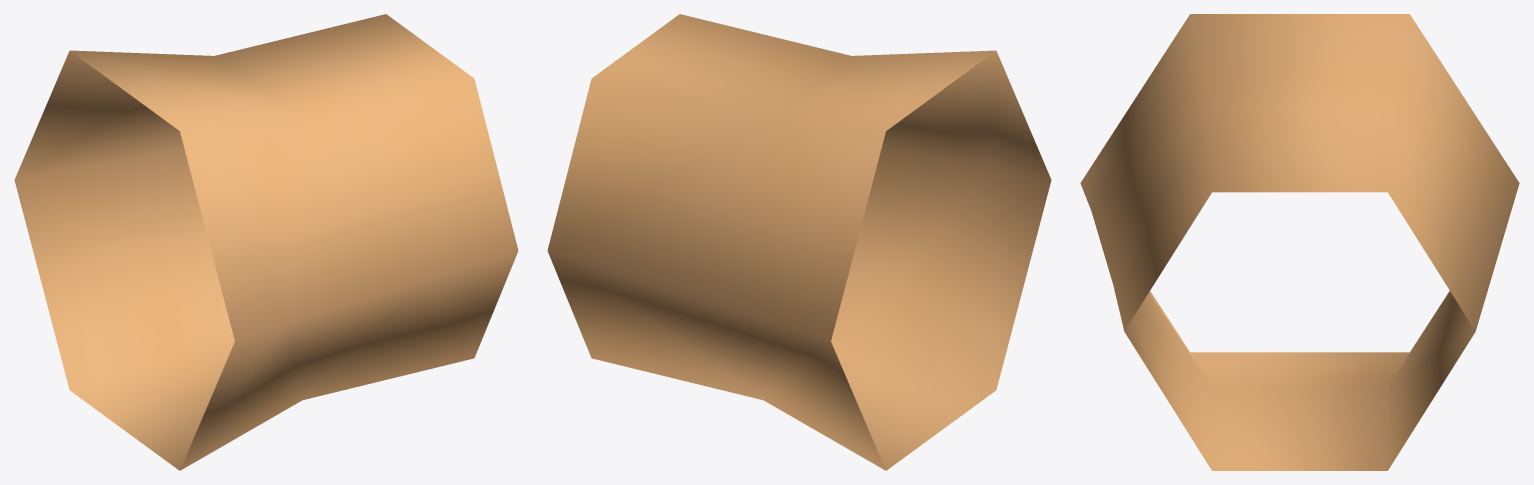
File: batch_0071.obj
3 views of the same model, side by side, from view 1: azimuth 30°, elevation 25°; view 2: azimuth 150°, elevation 25°; view 3: azimuth 270°, elevation 25° (orthographic).
Parts seen in each view (by area): view 1: batch_0071; view 2: batch_0071; view 3: batch_0071.
Part boxes in pixels (x1,y1,x2,y2): batch_0071: (14,14,518,470); batch_0071: (547,14,1051,470); batch_0071: (1080,14,1519,470).
Bounding box in the file's own units: 8 × 8.5 × 10.
1 material, 1 textured.
